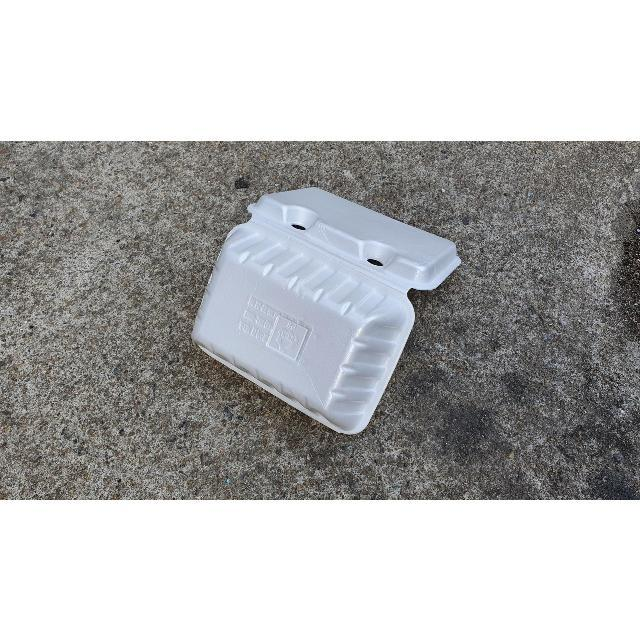Recipiente plastico: (192, 188, 460, 433)
